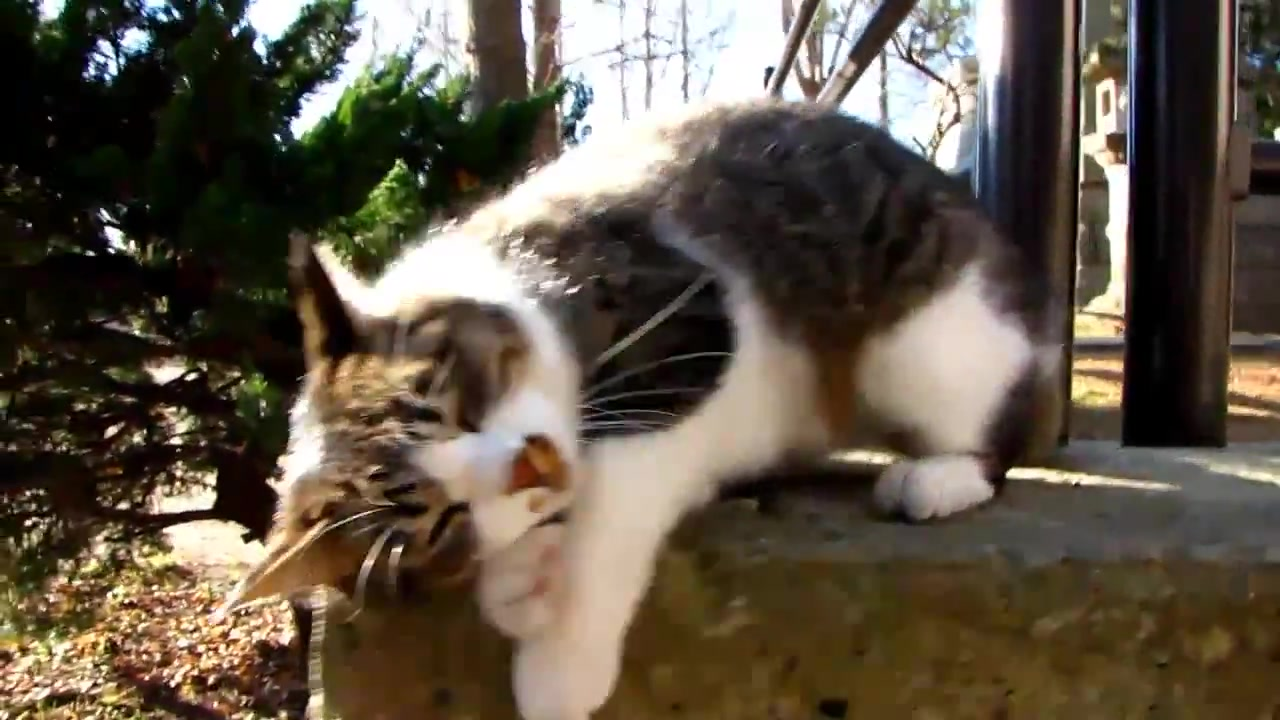cat: (215, 96, 1047, 720)
